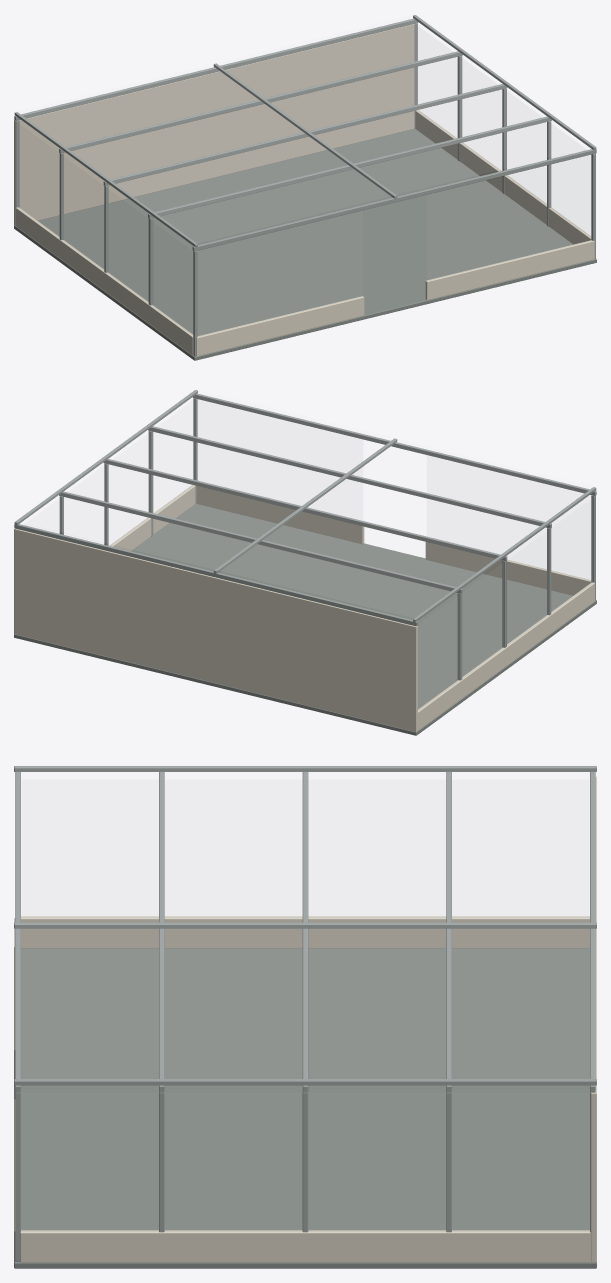
File: indoor-climbing-and-bouldering-gym-indoor-climbing-and-6b59a4b9__31515.glb
3 views of the same model, one above another, from view 1: azimuth 30°, elevation 25°; view 2: azimuth 150°, elevation 25°; view 3: azimuth 270°, elevation 25° (orthographic). The views are drawn at different scales.
Visible parts, largest first — view 1: indoor-climbing-and-bouldering-gym-roofed-bouldering-gym; view 2: indoor-climbing-and-bouldering-gym-roofed-bouldering-gym; view 3: indoor-climbing-and-bouldering-gym-roofed-bouldering-gym.
Part boxes in pixels (box(x1,y1,x2,y2)): indoor-climbing-and-bouldering-gym-roofed-bouldering-gym: box(14, 15, 596, 360); indoor-climbing-and-bouldering-gym-roofed-bouldering-gym: box(14, 390, 596, 735); indoor-climbing-and-bouldering-gym-roofed-bouldering-gym: box(14, 766, 596, 1268).
Size of the model in its own units: 18 by 4.99 by 14.
